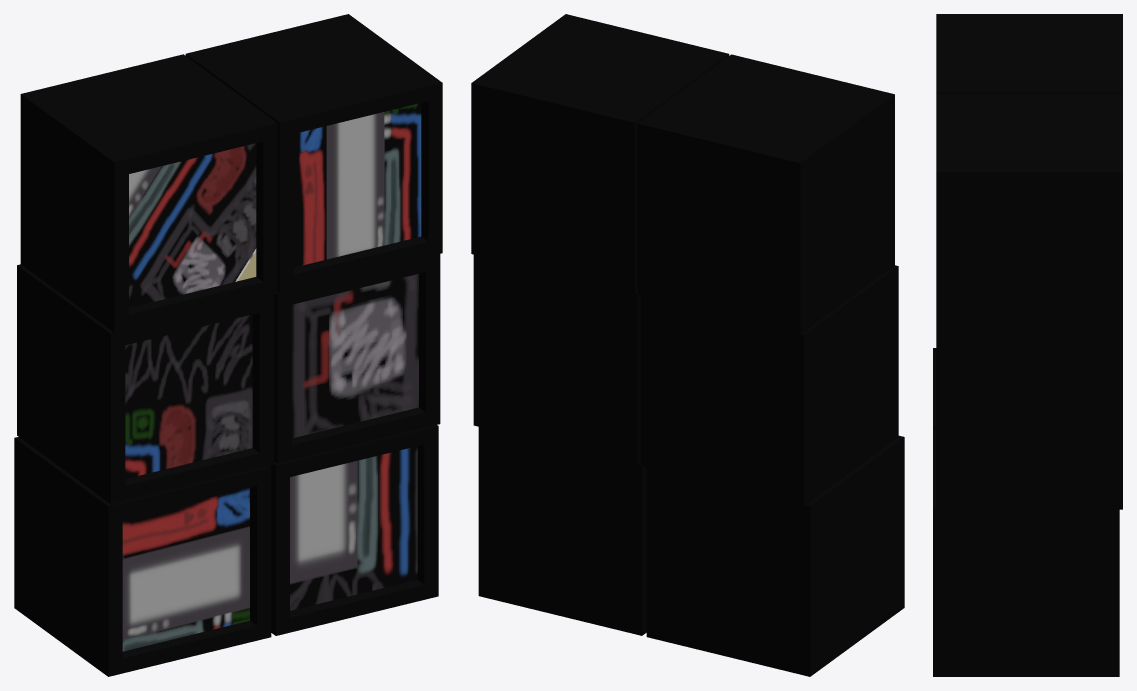
Rendered from BlackServerWall.glb.
3 renders of one model, left to right at view 1: azimuth 30°, elevation 25°; view 2: azimuth 150°, elevation 25°; view 3: azimuth 270°, elevation 25°, orthographic.
Visible parts, largest first — view 1: server physical; view 2: server physical; view 3: server physical.
Part boxes in pixels (<box>): server physical: <box>14,14,442,676</box>; server physical: <box>471,14,904,676</box>; server physical: <box>933,14,1122,676</box>.
Size of the model in its own units: 1.24 by 1.8 by 0.6104.
Materials: 1 (1 with a texture image).
